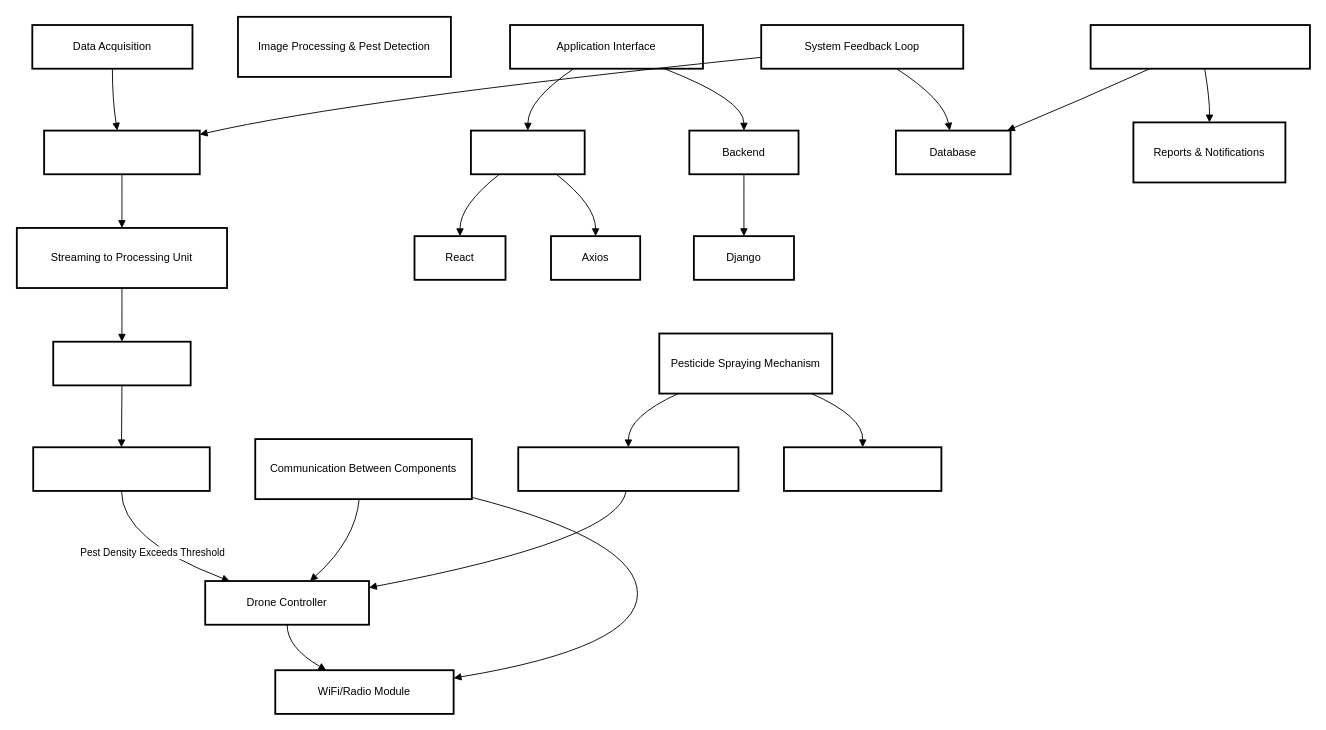
Image size: 1326x730. Some labels were removed from this diagram. Each missing label, with the centre of its shape:
"Camera Module" belongs at (121,152).
"Decision Threshold" belongs at (121,468).
"Frontend" belongs at (527,152).
"Integrated Nozzle System" belongs at (628,468).
"Monitoring and Reporting" belongs at (1199,46).
"Payload Control" belongs at (862,468).
"YOLOv8-OBB" belongs at (121,363).
